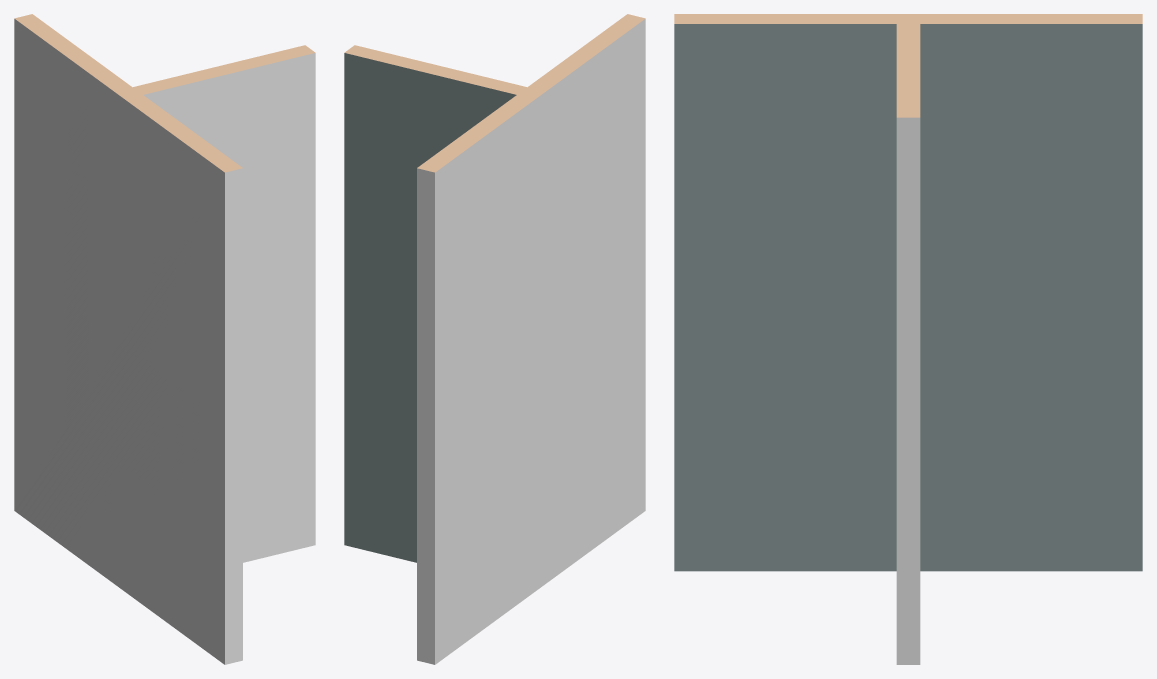
The model's file is wall-T-alt-col.glb.
The picture shows the model from 3 angles, left to right: view 1: azimuth 30°, elevation 25°; view 2: azimuth 150°, elevation 25°; view 3: azimuth 270°, elevation 25°; orthographic projection. The views are drawn at different scales.
Parts seen in each view (by area): view 1: wall-t-alt-col; view 2: wall-t-alt-col; view 3: wall-t-alt-col.
Boxes of the visible parts, x1,y1,x2,y2 form: wall-t-alt-col: (14, 14, 315, 664); wall-t-alt-col: (344, 14, 645, 664); wall-t-alt-col: (674, 14, 1142, 664).
Bounding box in the file's own units: 0.5233 × 1.29 × 1.
